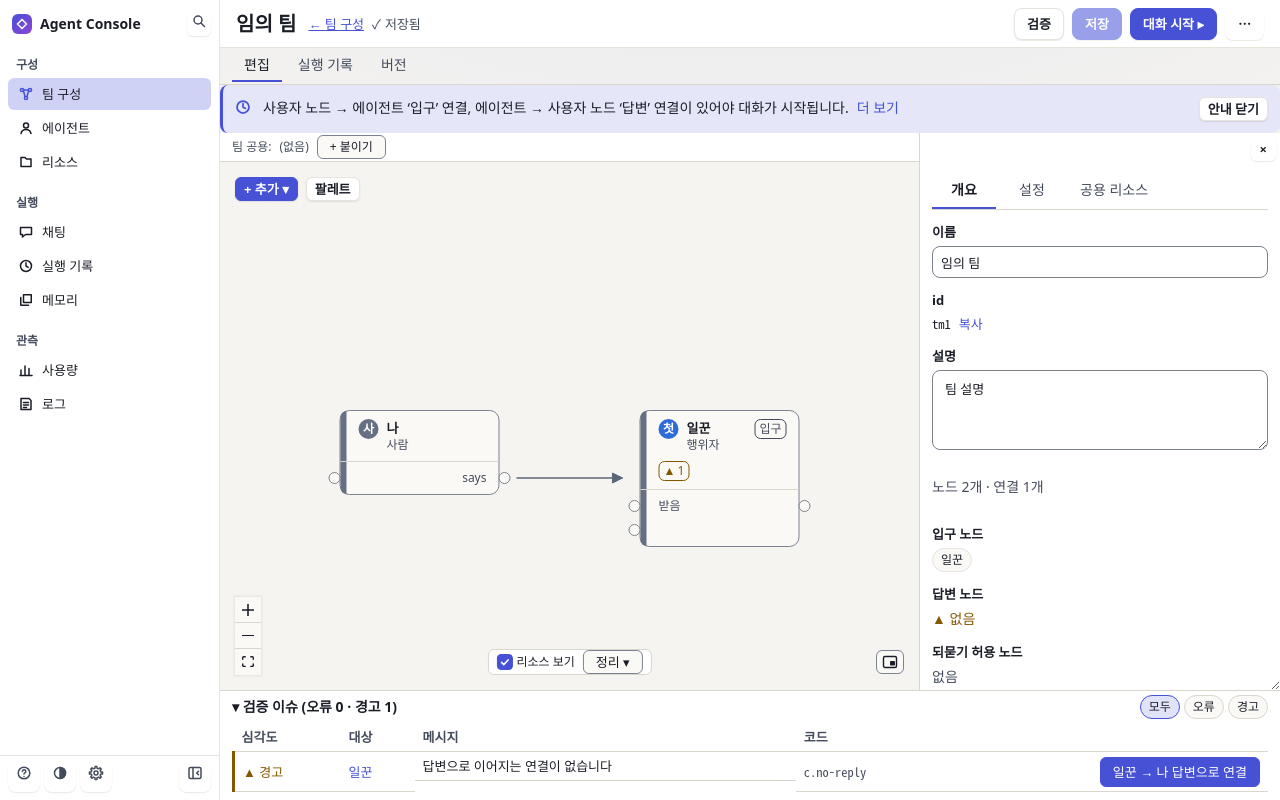
팀 구성 편집기: 검증 이슈·제안·저장 › 서버 이슈를 그대로 보이고 제안 버튼은 초안에만 적용되며 [저장]이 If-Match로 보낸다
The image size is (1280, 800).
Expected: the text "답변으로 이어지는 연결이 없습니다" is shown, [414,752,796,781]
Expected: the text "c.no-reply" is shown, [796,752,941,792]
Click the button "일꾼 → 나 답변으로 연결" at coordinates (1180, 772), box [1100,756,1260,786]
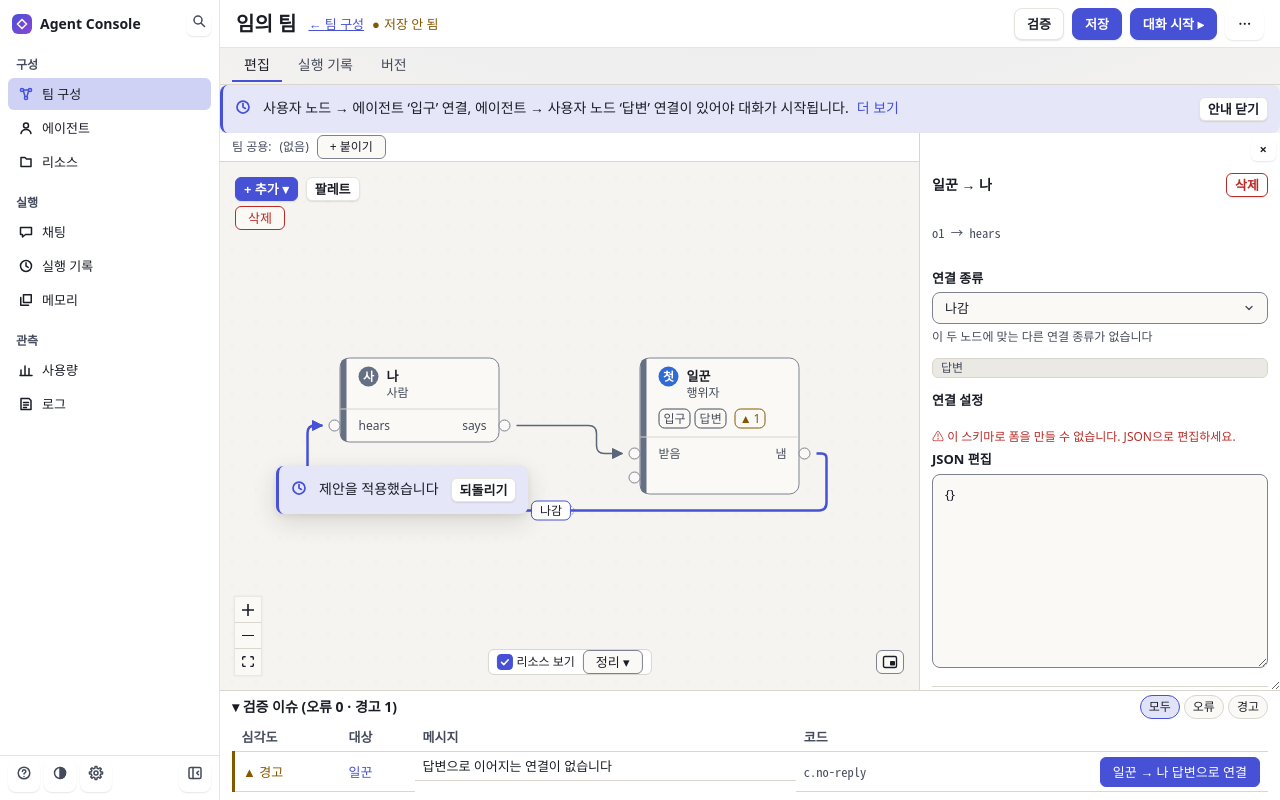
Now the text "저장 안 됨" is shown, box [384,14,438,32]
Click the button "저장" at coordinates (1097, 24), box [1072,8,1122,40]
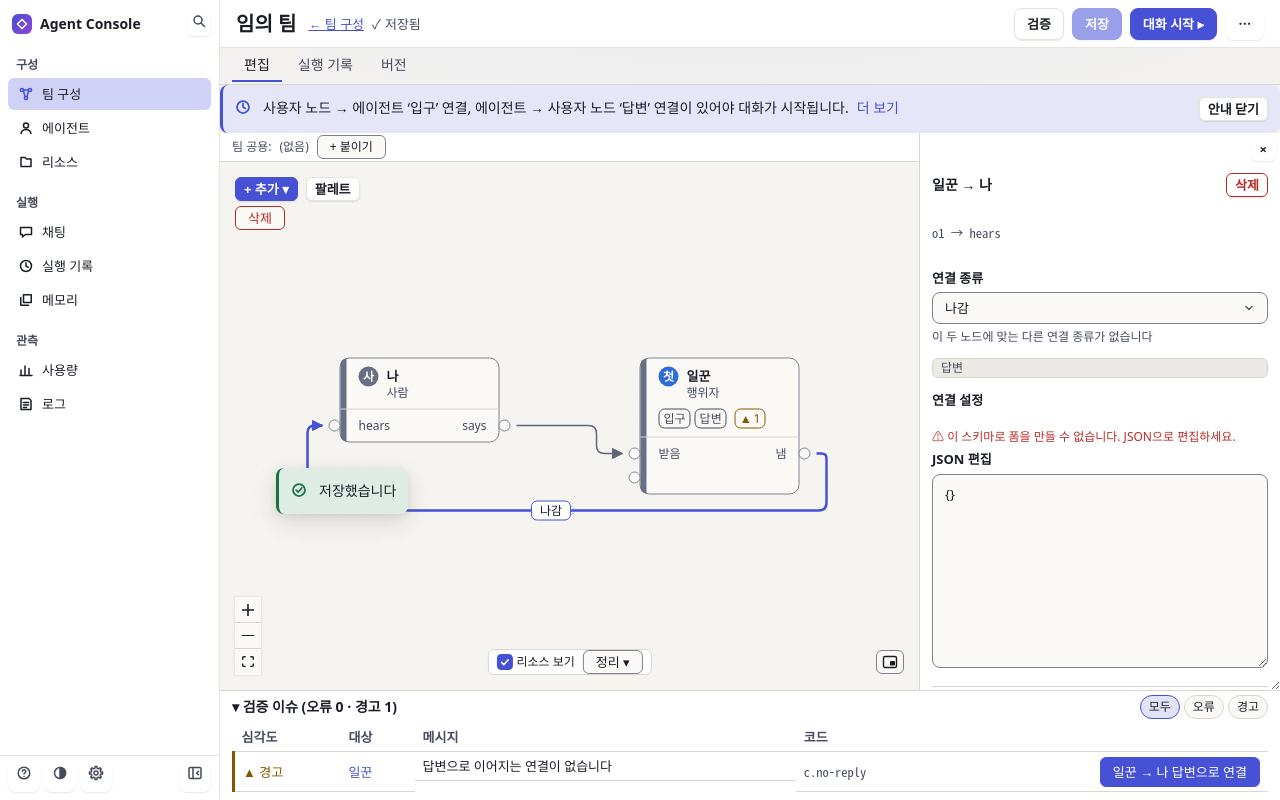
Now the text "저장됨" is shown, box [385,14,421,32]
